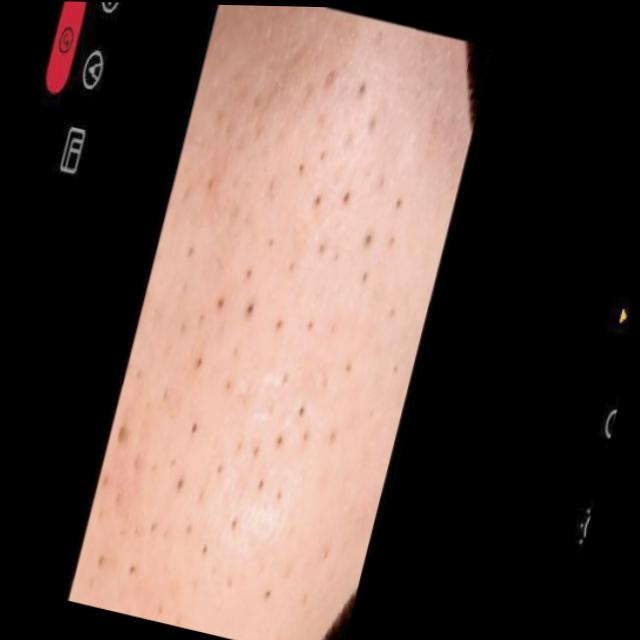blackhead: (127, 30, 420, 634)
